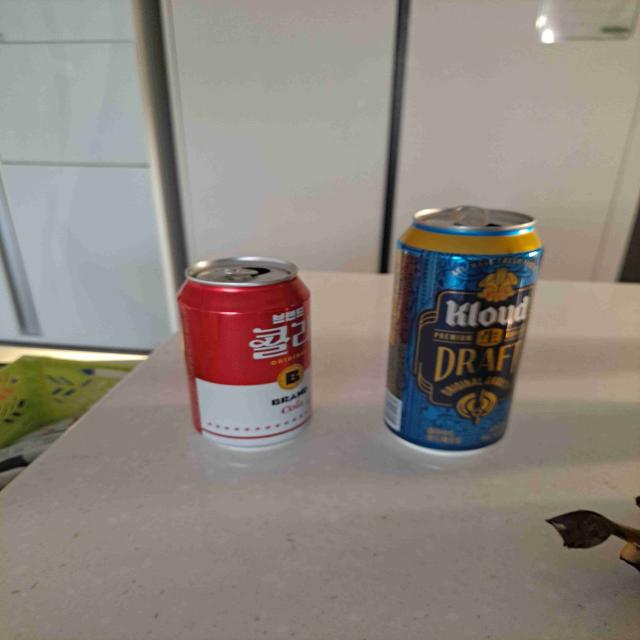can: (381, 203, 544, 454), (177, 255, 316, 448)
